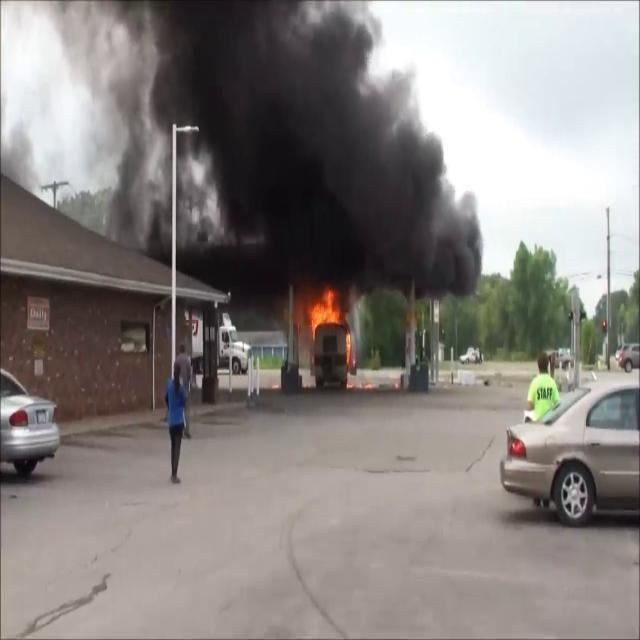Fire: (303, 281, 344, 339)
Smoke: (78, 1, 480, 304)
